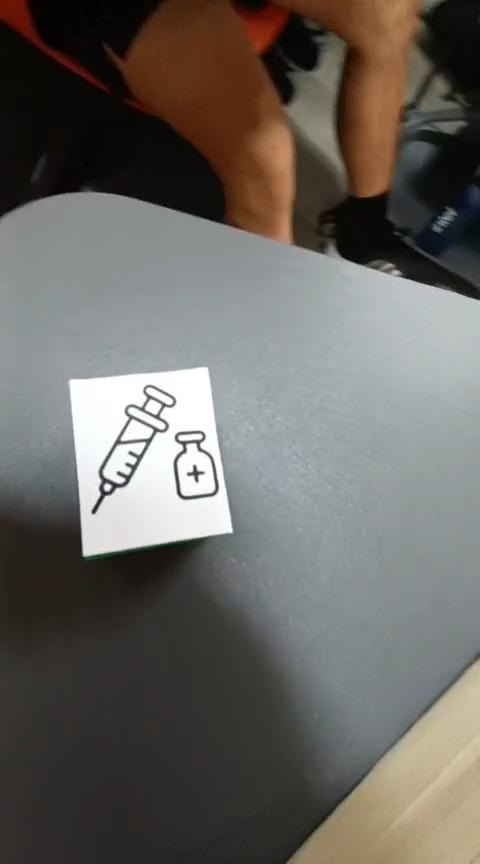antiseptic cream: (70, 365, 235, 558)
